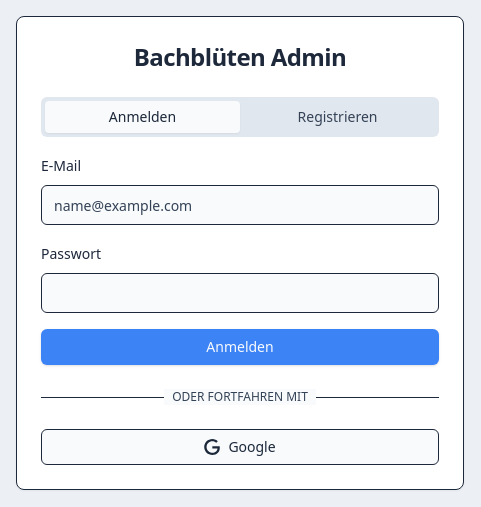
Test: RegistrationForm › renders registration form with all elements
Click the tab "Registrieren" at [338, 117], box left=240, top=101, right=435, bottom=133
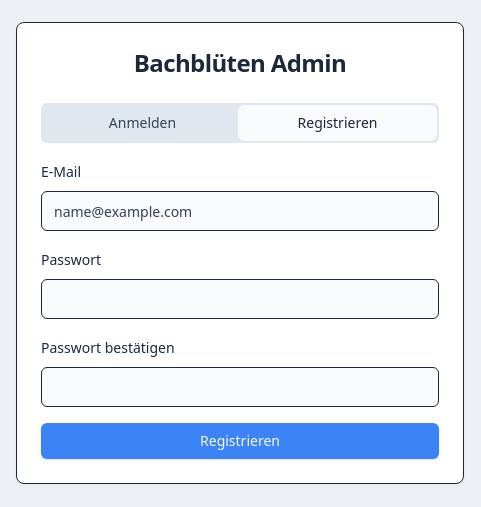
Check: the text "Passwort bestätigen" is shown, box left=41, top=338, right=175, bottom=357
Check: the password field labelled "Passwort bestätigen" is shown, box left=41, top=367, right=439, bottom=407
Check: the button "Registrieren" is shown, box left=41, top=423, right=439, bottom=459
